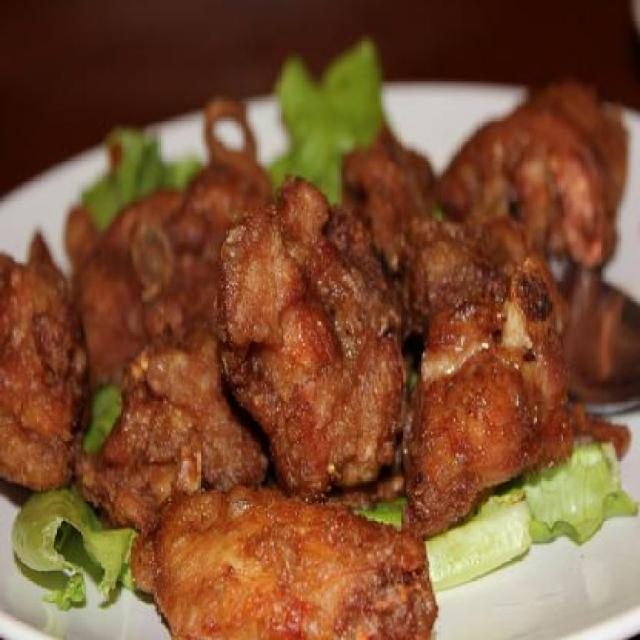Deep fried chicken wing: (18, 84, 616, 606)
